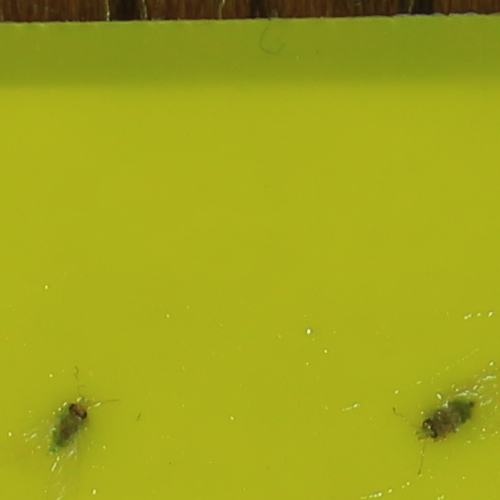Glycaspis: (417, 396, 477, 442), (47, 392, 92, 452)
